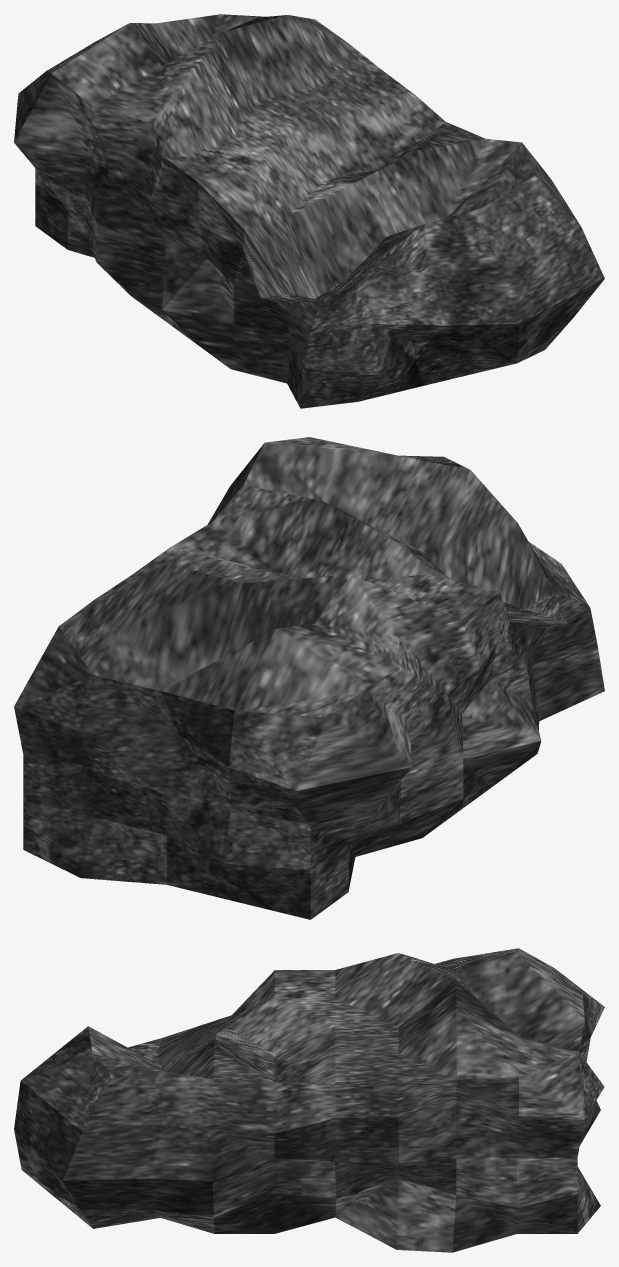
File: skaly3.glb
3 views of the same model, one above another, from view 1: azimuth 30°, elevation 25°; view 2: azimuth 150°, elevation 25°; view 3: azimuth 270°, elevation 25° (orthographic). The views are drawn at different scales.
Parts seen in each view (by area): view 1: Cube; view 2: Cube; view 3: Cube.
Boxes of the visible parts, x1=… form: Cube: x1=14, y1=14, x2=604, y2=408; Cube: x1=14, y1=437, x2=604, y2=919; Cube: x1=14, y1=948, x2=604, y2=1252.
Size of the model in its own units: 4.62 by 2.79 by 7.06.
1 material, 1 textured.
